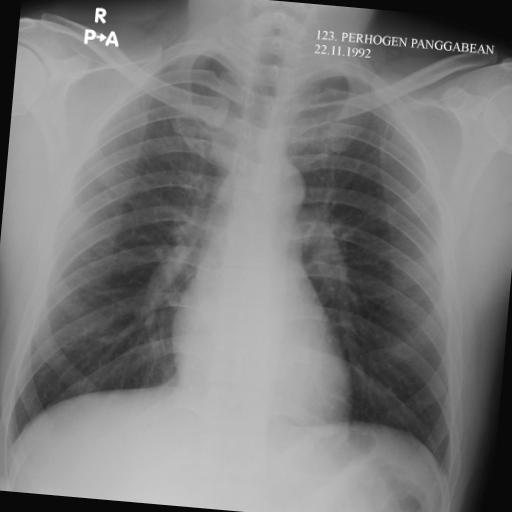normal: (0, 6, 497, 496)
